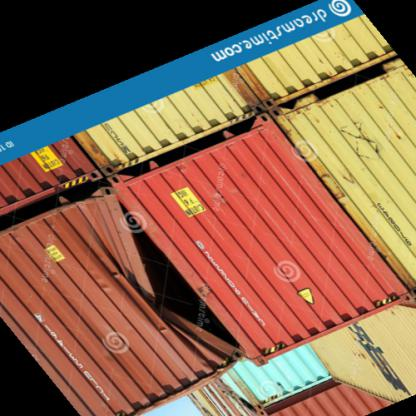Damage: (109, 196, 248, 360)
